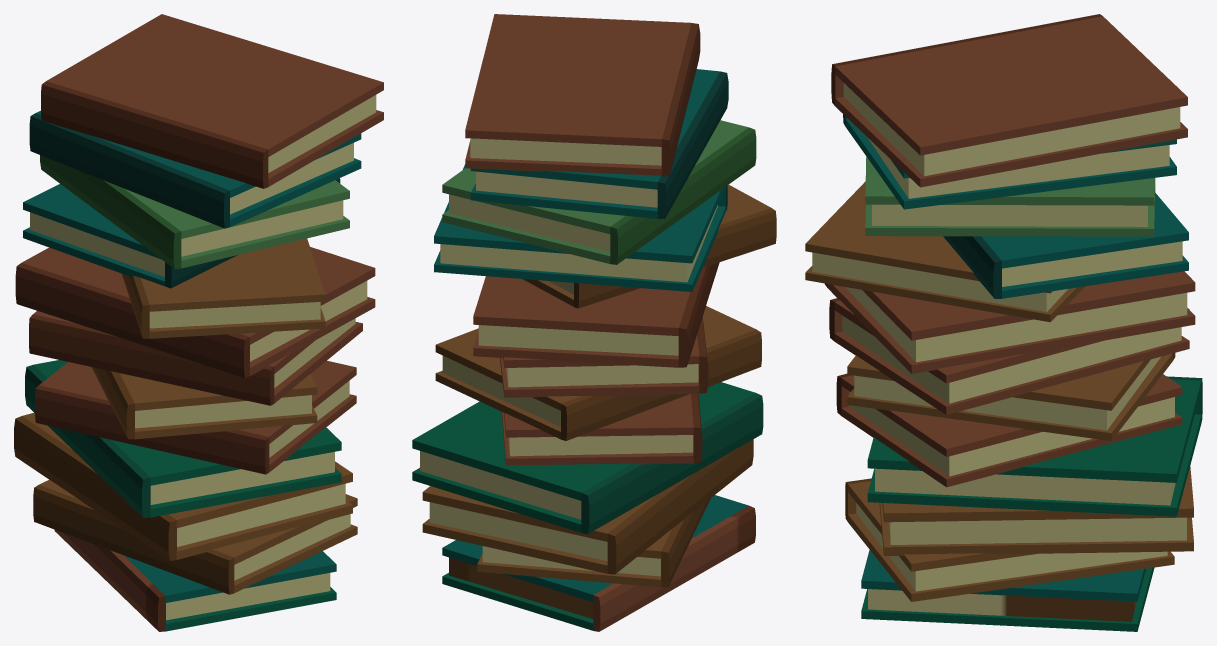
The model's file is book2.fbx.
3 views of the same model, side by side, from view 1: azimuth 30°, elevation 25°; view 2: azimuth 150°, elevation 25°; view 3: azimuth 270°, elevation 25° (orthographic). The views are drawn at different scales.
Visible parts, largest first — view 1: book2; view 2: book2; view 3: book2.
Boxes of the visible parts, bbox=[...] form: book2: bbox=[14, 14, 383, 631]; book2: bbox=[412, 14, 776, 631]; book2: bbox=[805, 14, 1202, 631].
Size of the model in its own units: 121 by 195 by 137.
